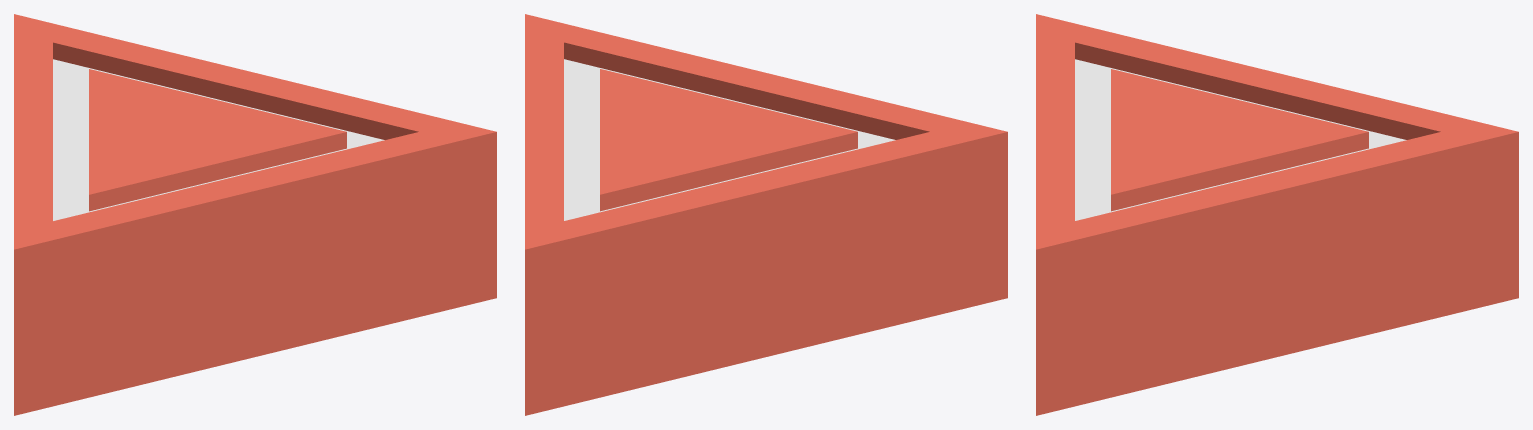
The model's file is triangleButt.gltf.
3 views of the same model, side by side, from view 1: azimuth 30°, elevation 25°; view 2: azimuth 150°, elevation 25°; view 3: azimuth 270°, elevation 25° (orthographic).
Visible parts, largest first — view 1: triangleButt_geo; view 2: triangleButt_geo; view 3: triangleButt_geo.
Part boxes in pixels (bbox=[...]): triangleButt_geo: bbox=[14, 14, 496, 415]; triangleButt_geo: bbox=[525, 14, 1007, 415]; triangleButt_geo: bbox=[1036, 14, 1518, 415].
Size of the model in its own units: 1.52 by 0.5 by 1.32.
